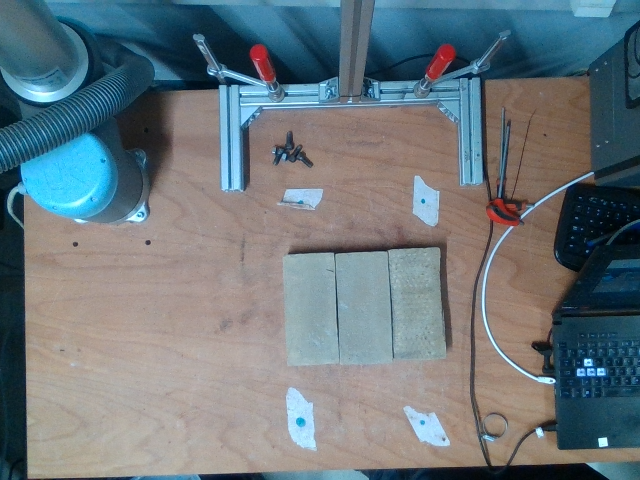brick: (337, 251, 392, 364), (285, 253, 337, 368), (391, 250, 442, 359)
